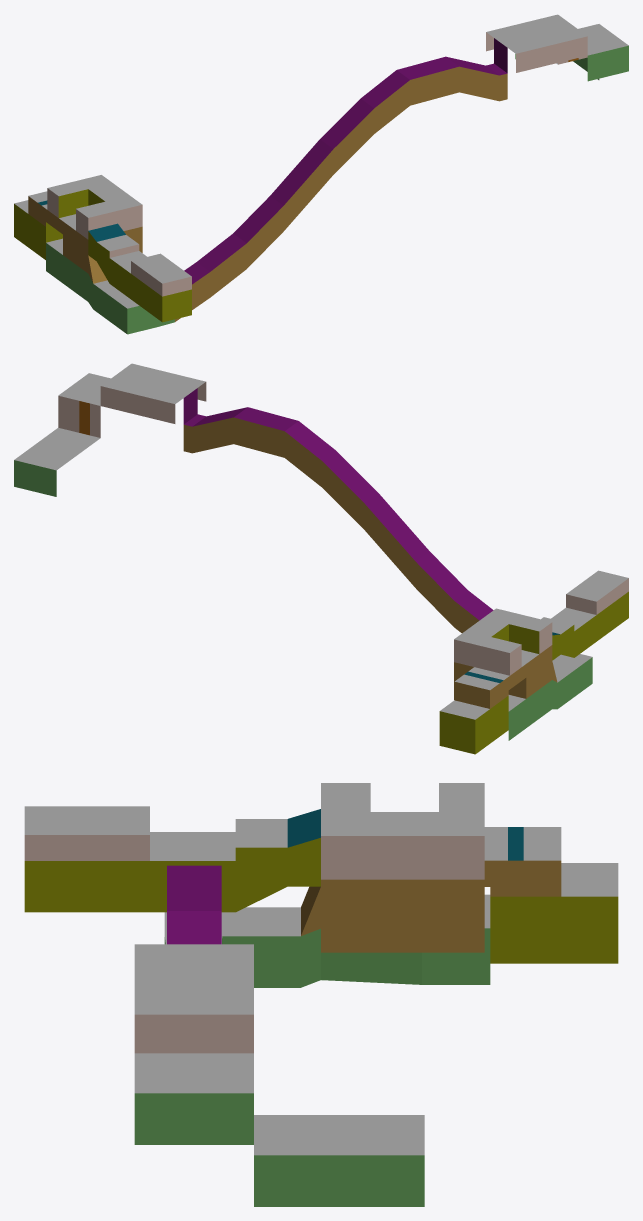
Rendered from tuti.obj.
3 views of the same model, one above another, from view 1: azimuth 30°, elevation 25°; view 2: azimuth 150°, elevation 25°; view 3: azimuth 270°, elevation 25° (orthographic). The views are drawn at different scales.
Parts seen in each view (by area): view 1: Cube.027_Cube.026; view 2: Cube.027_Cube.026; view 3: Cube.027_Cube.026.
Part boxes in pixels (x1=…): Cube.027_Cube.026: x1=14, y1=14, x2=628, y2=334; Cube.027_Cube.026: x1=14, y1=363, x2=628, y2=754; Cube.027_Cube.026: x1=24, y1=783, x2=618, y2=1206.
Bounding box in the file's own units: 2005 × 749 × 1043.
